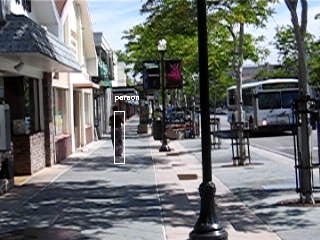person: (108, 107, 125, 159), (107, 107, 124, 159), (109, 107, 126, 159), (108, 106, 125, 158), (108, 108, 125, 160)
target_negative: (126, 75, 261, 157), (97, 172, 319, 217), (33, 177, 153, 237), (74, 181, 245, 186), (281, 216, 292, 236), (184, 201, 274, 203)
